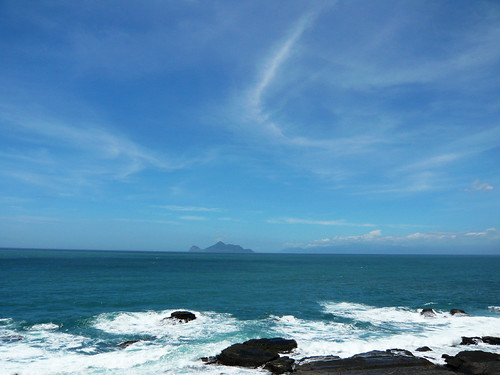turtleIslandLeft: (188, 240, 254, 253)
